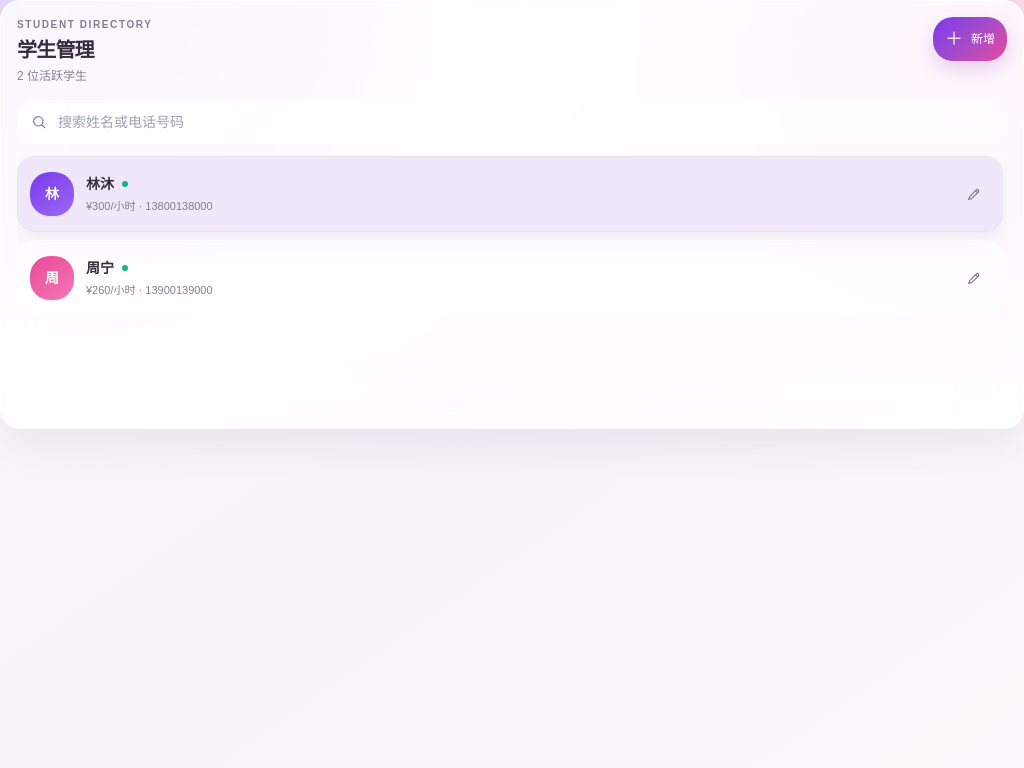
StudentsPanel › shows a specific empty search result
The image size is (1024, 768).
Type "不存在" into the search field with test id "student-search" at (512, 122), box [17,100,1007,144]
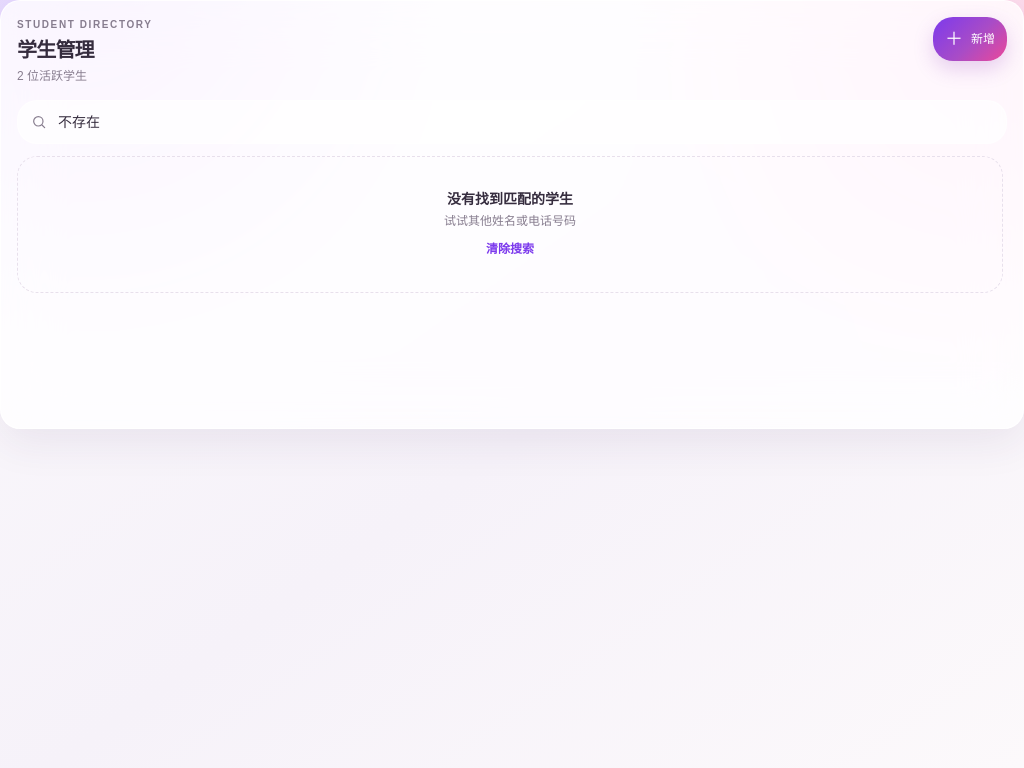
Expected: the text "没有找到匹配的学生" is shown, [447,191,573,207]
